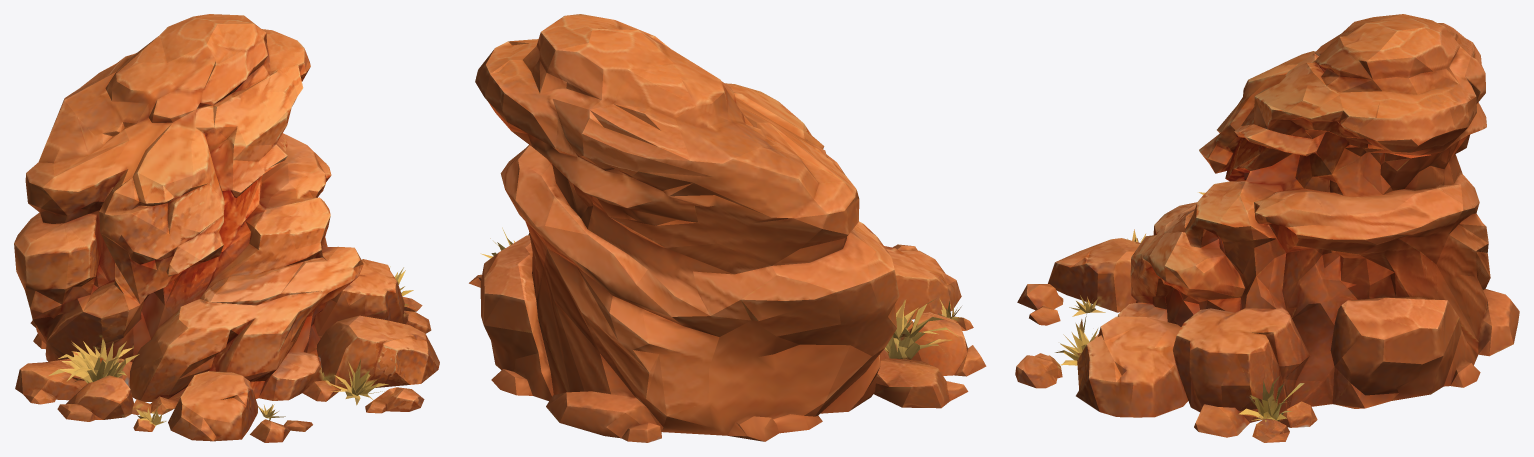
Rendered from rock_desert.glb.
3 views of the same model, side by side, from view 1: azimuth 30°, elevation 25°; view 2: azimuth 150°, elevation 25°; view 3: azimuth 270°, elevation 25° (orthographic). The views are drawn at different scales.
Visible parts, largest first — view 1: output_unwrapped; view 2: output_unwrapped; view 3: output_unwrapped.
Boxes of the visible parts, x1,y1,x2,y2 form: output_unwrapped: (14, 14, 439, 442); output_unwrapped: (469, 14, 986, 442); output_unwrapped: (1015, 14, 1519, 442).
Size of the model in its own units: 1.89 by 1.28 by 1.78.
Materials: 1 (1 with a texture image).
